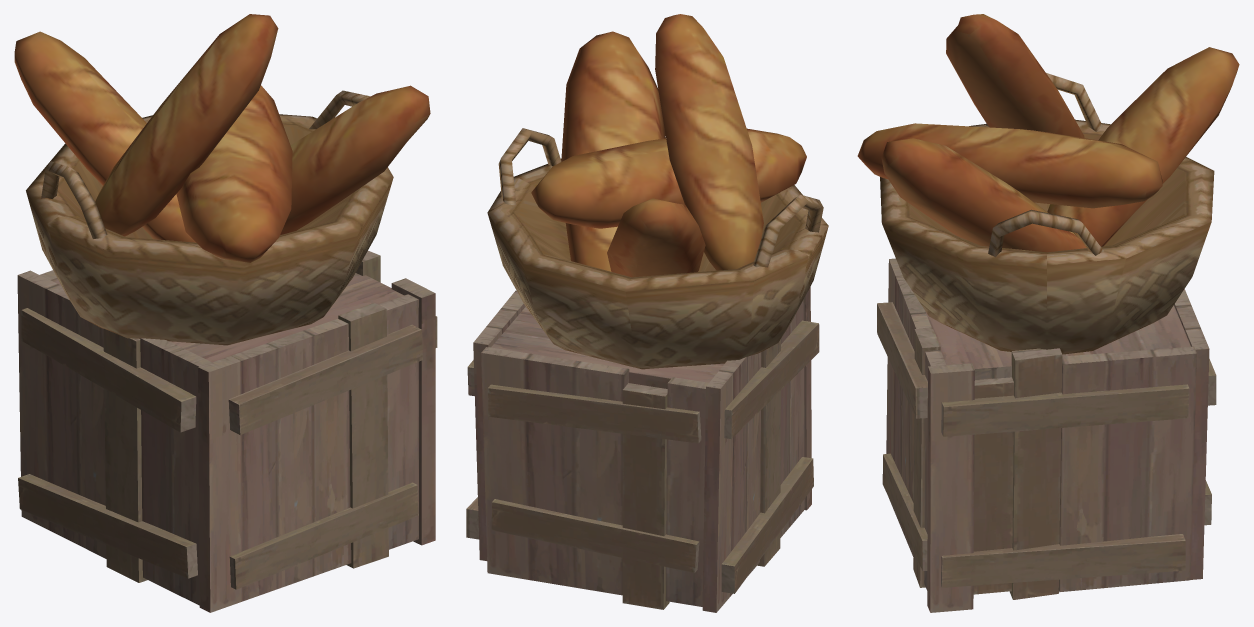
The model's file is Homeworld_Ani_Exterior_Md_Build_TracellerBooth_05_01_Vo.fbx.
3 renders of one model, left to right at view 1: azimuth 30°, elevation 25°; view 2: azimuth 150°, elevation 25°; view 3: azimuth 270°, elevation 25°, orthographic. The views are drawn at different scales.
Parts seen in each view (by area): view 1: Property_Ani_Prop_MarkertDeco_06_01_Vo; view 2: Property_Ani_Prop_MarkertDeco_06_01_Vo; view 3: Property_Ani_Prop_MarkertDeco_06_01_Vo.
Part boxes in pixels (x1=…): Property_Ani_Prop_MarkertDeco_06_01_Vo: x1=14, y1=14, x2=437, y2=612; Property_Ani_Prop_MarkertDeco_06_01_Vo: x1=466, y1=14, x2=828, y2=612; Property_Ani_Prop_MarkertDeco_06_01_Vo: x1=857, y1=14, x2=1239, y2=612.
Bounding box in the file's own units: 0.68 × 1.05 × 0.6905.
